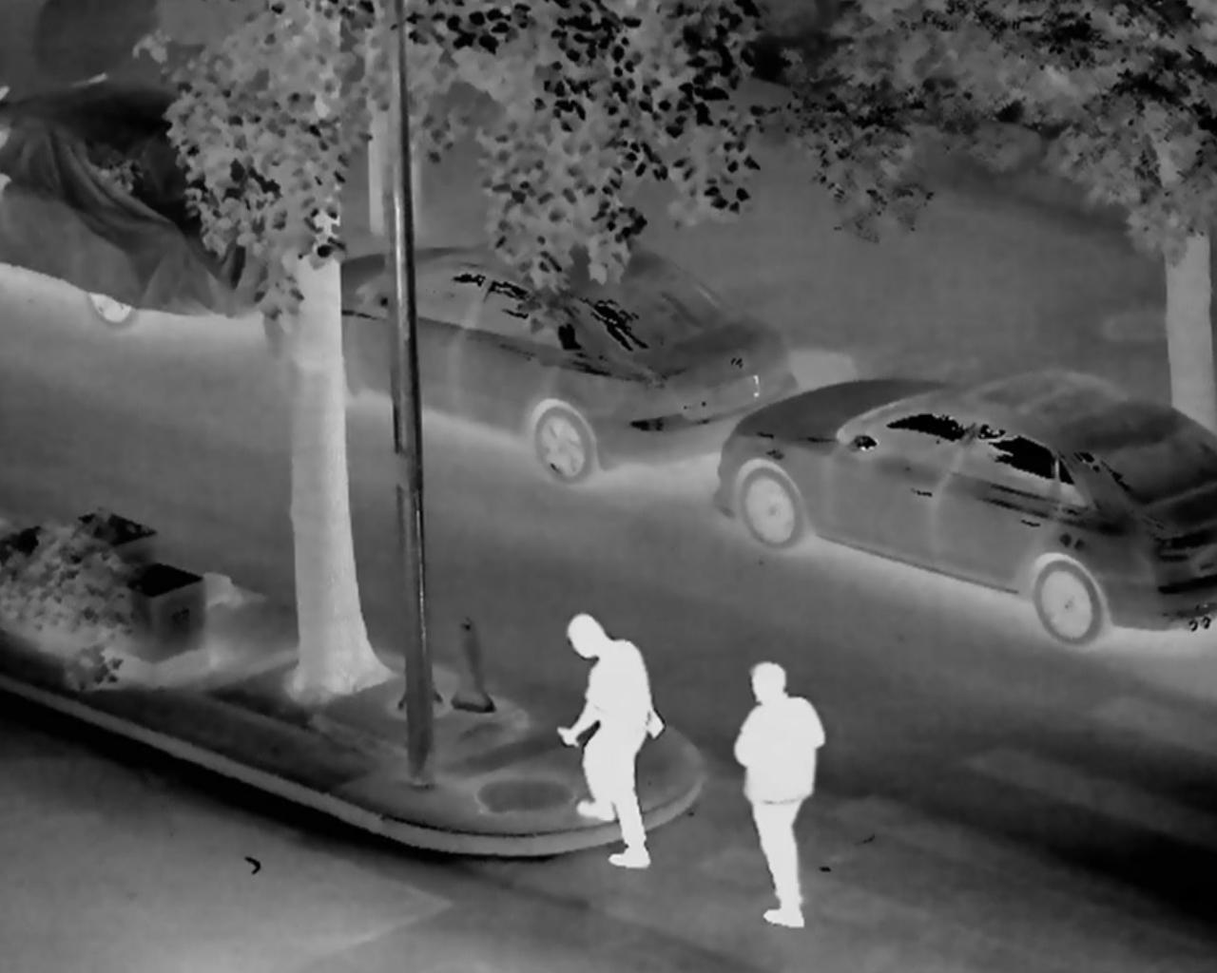person: (544, 596, 655, 872), (725, 647, 824, 944)
